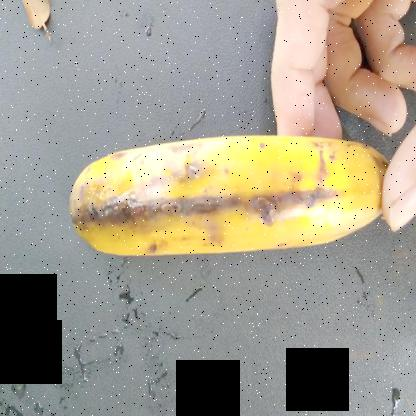overripe: (60, 97, 400, 286)
